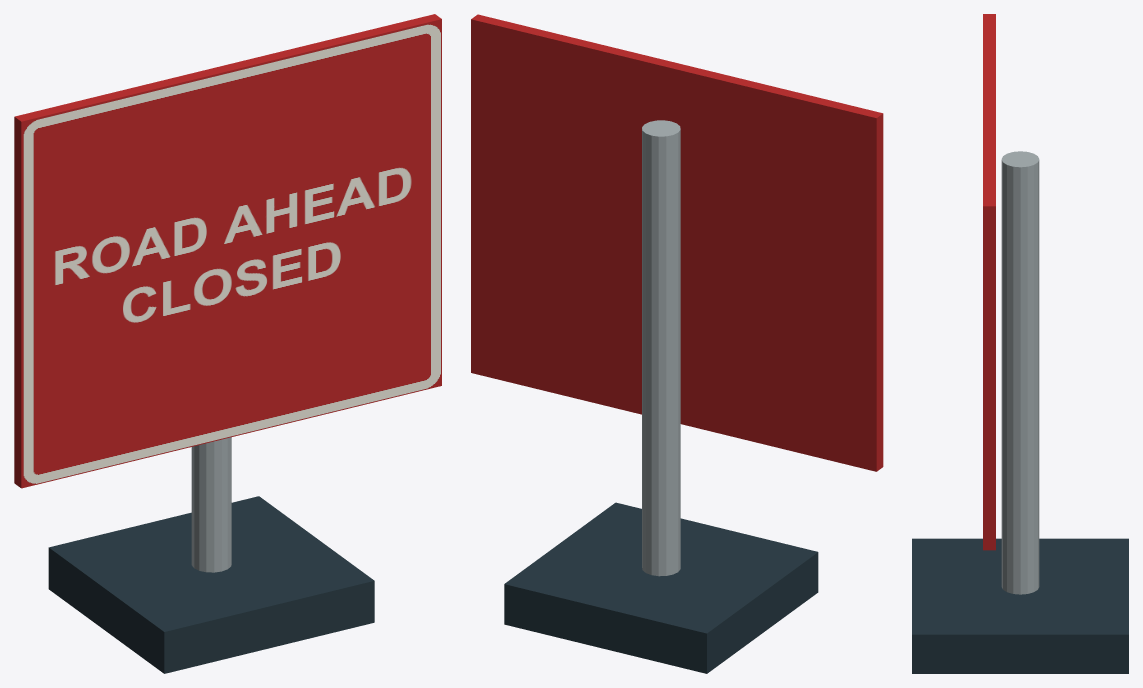
Rendered from scendance-plan-road-ahead-closed.glb.
3 views of the same model, side by side, from view 1: azimuth 30°, elevation 25°; view 2: azimuth 150°, elevation 25°; view 3: azimuth 270°, elevation 25° (orthographic). The views are drawn at different scales.
Bounding box in the file's own units: 0.84 × 1.05 × 0.4.
Materials: 4 (1 with a texture image).
